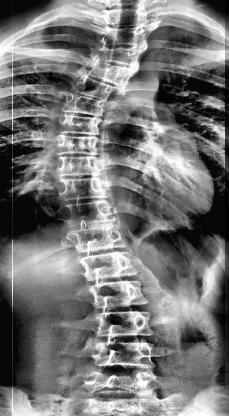Vertebrae: (87, 339, 159, 371), (80, 374, 160, 402), (81, 280, 145, 309), (90, 312, 156, 340), (54, 152, 108, 178), (65, 202, 115, 229), (74, 226, 130, 250), (76, 254, 134, 276), (54, 137, 106, 159), (58, 178, 108, 200), (62, 92, 104, 118), (76, 76, 120, 100), (98, 62, 136, 86), (61, 114, 101, 136), (106, 7, 148, 27), (106, 46, 144, 66), (104, 28, 146, 46)
